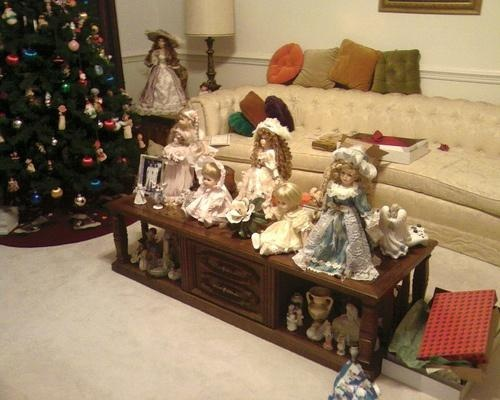sofa: (174, 85, 500, 270)
